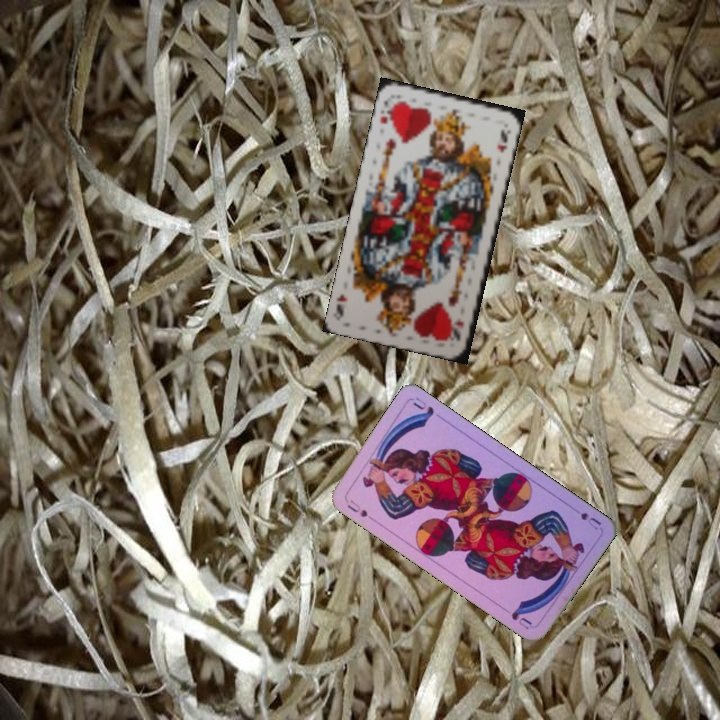HK: (376, 94, 393, 127), (449, 316, 467, 344)
SU: (567, 502, 604, 532), (343, 495, 377, 524)
